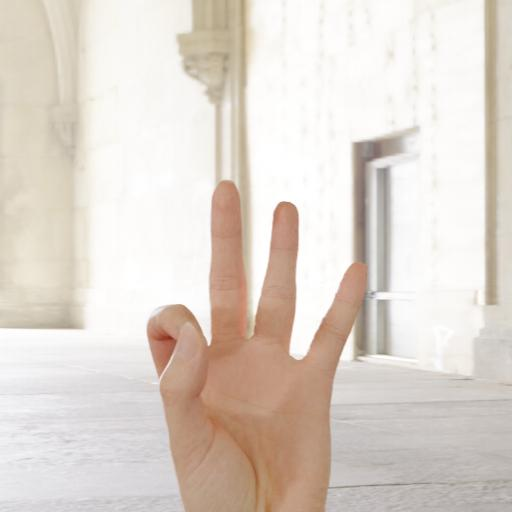F: (121, 165, 380, 512)
